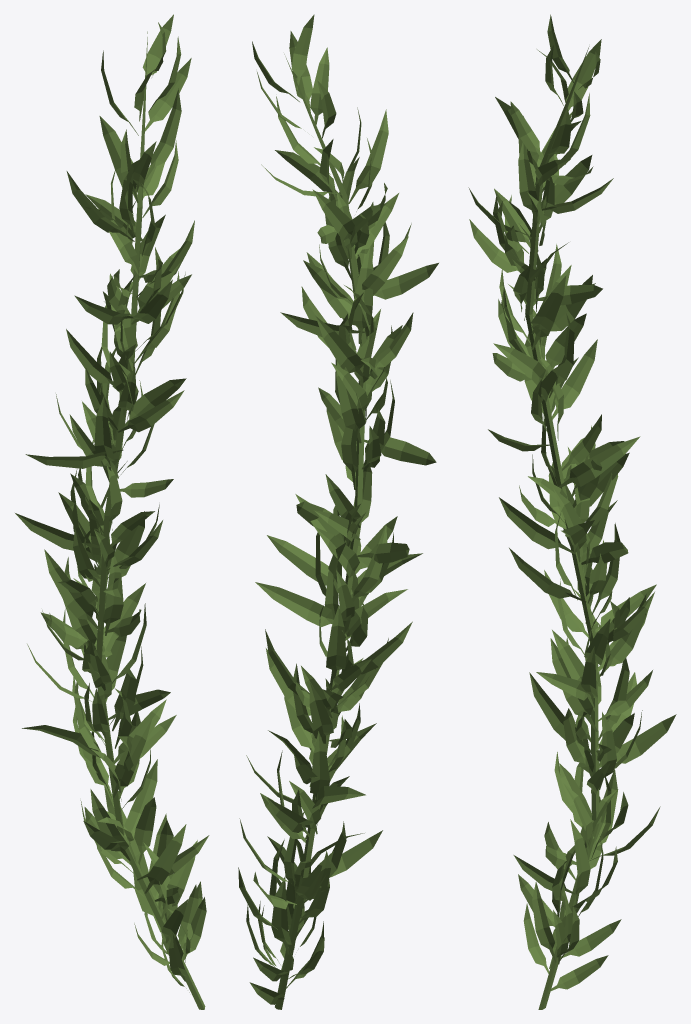
File: Kelp03.fbx
3 views of the same model, side by side, from view 1: azimuth 30°, elevation 25°; view 2: azimuth 150°, elevation 25°; view 3: azimuth 270°, elevation 25° (orthographic). The views are drawn at different scales.
Parts seen in each view (by area): view 1: Kelp03; view 2: Kelp03; view 3: Kelp03.
Boxes of the visible parts, x1,y1,x2,y2 form: Kelp03: (15, 14, 209, 1009); Kelp03: (238, 14, 438, 1009); Kelp03: (468, 14, 676, 1009).
Size of the model in its own units: 4.9 by 25.48 by 4.93.
